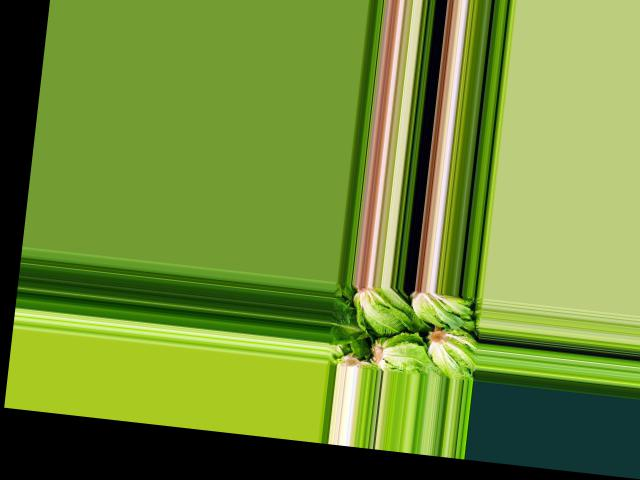lettuce: (327, 309, 366, 348)
